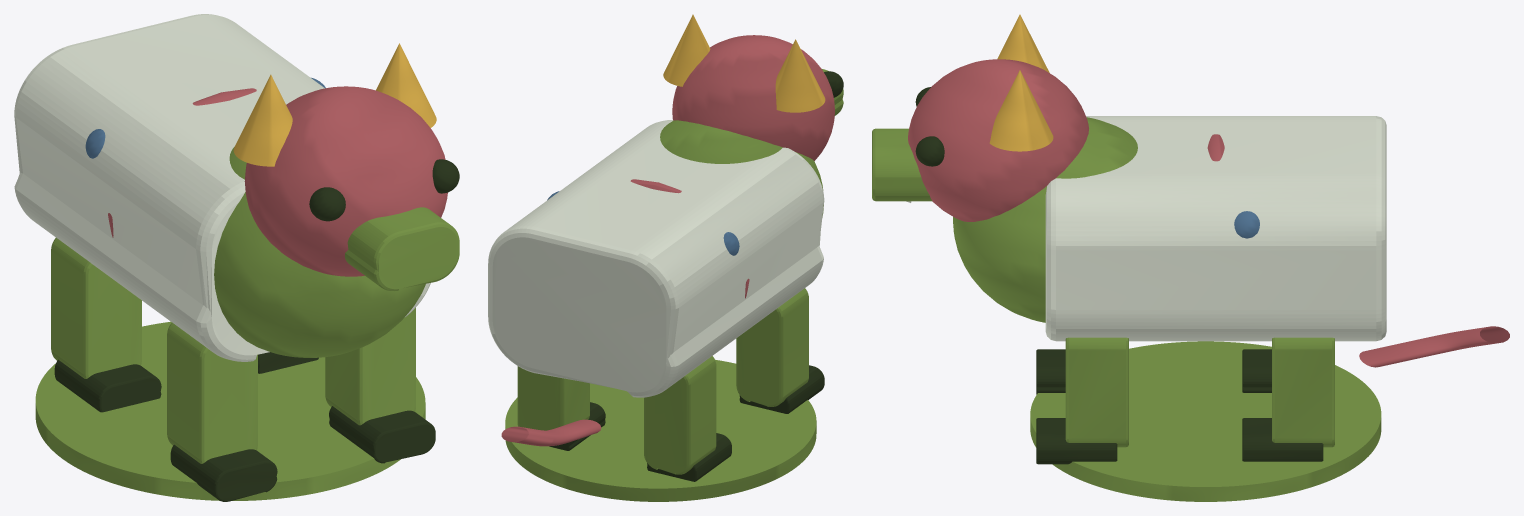
File: 1300_爬行动物图鉴_澳洲魔蜥.glb
3 views of the same model, side by side, from view 1: azimuth 30°, elevation 25°; view 2: azimuth 150°, elevation 25°; view 3: azimuth 270°, elevation 25° (orthographic). The views are drawn at different scales.
Parts seen in each view (by area): view 1: card_1300; view 2: card_1300; view 3: card_1300.
Part boxes in pixels (<box>): card_1300: <box>14,14,459,501</box>; card_1300: <box>488,14,843,501</box>; card_1300: <box>872,14,1509,501</box>.
Bounding box in the file's own units: 0.807 × 1 × 1.49.
